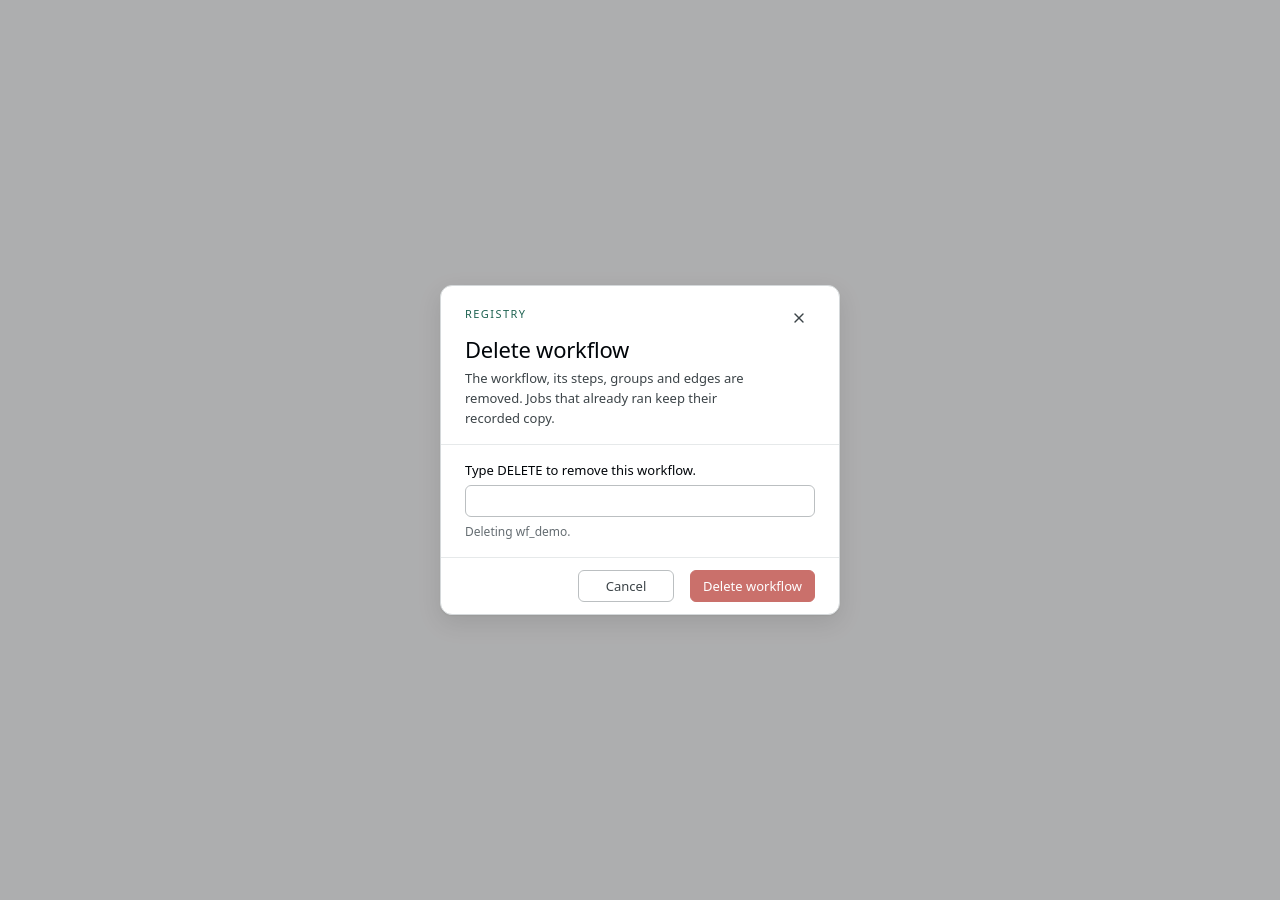
WorkflowHeaderMutationDialogs › clears the typed confirmation on the way out
Step 1. Type "DELETE" into the field labelled "Type DELETE to remove this workflow." → (640, 501), box [465, 485, 815, 517]
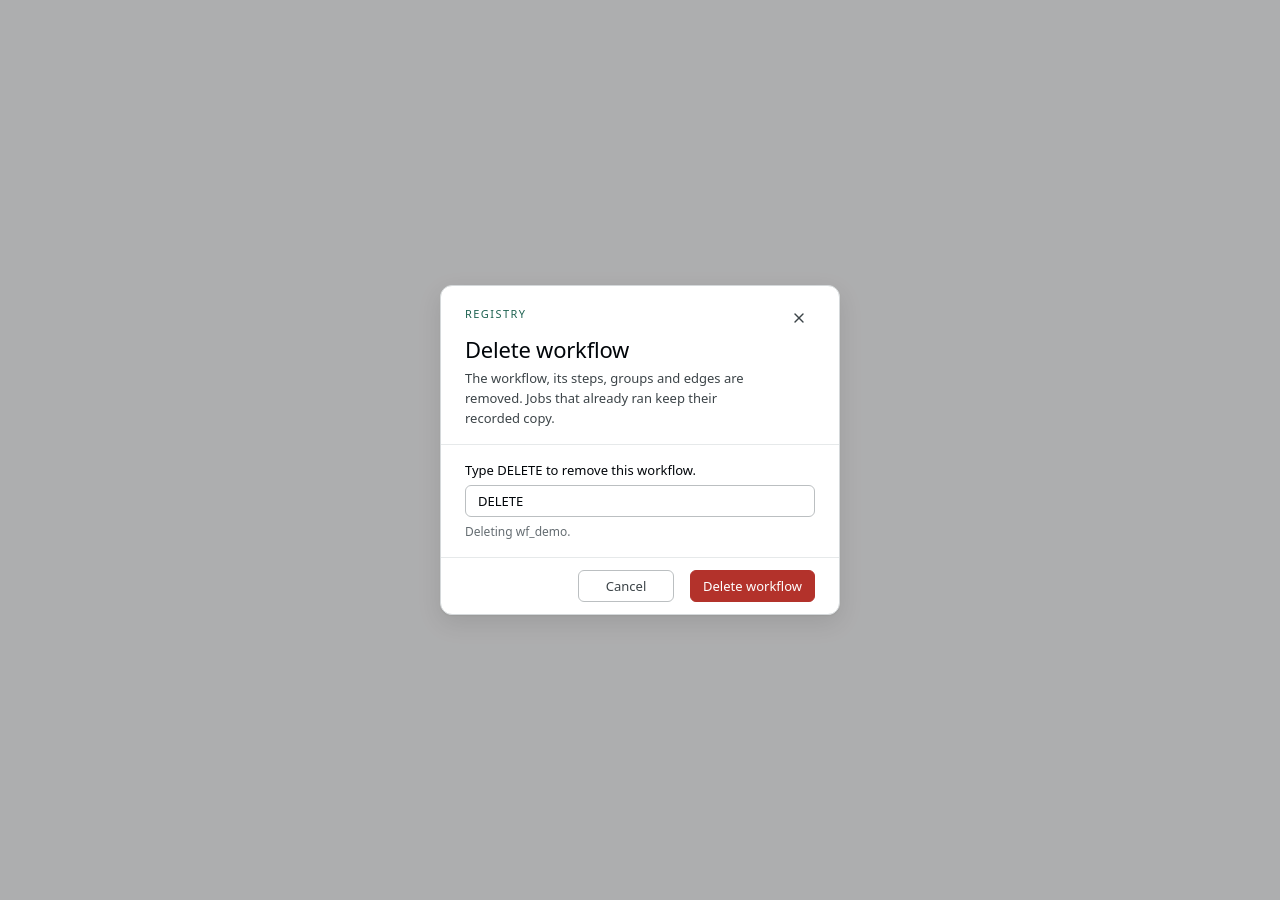
Step 2. Click the button "Cancel" → (626, 586), box [578, 570, 674, 602]
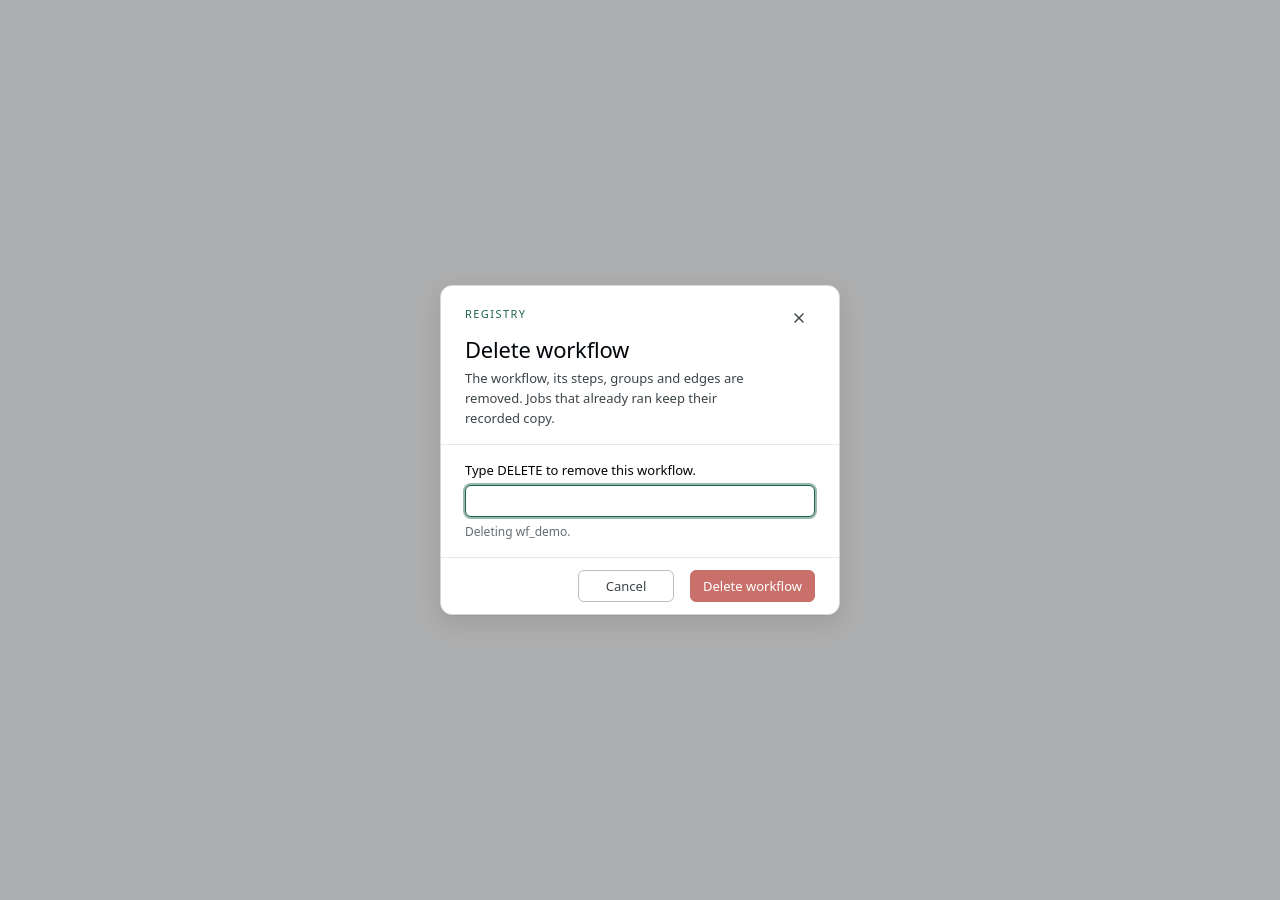
Check: the field labelled "Type DELETE to remove this workflow." is empty, box [465, 485, 815, 517]
